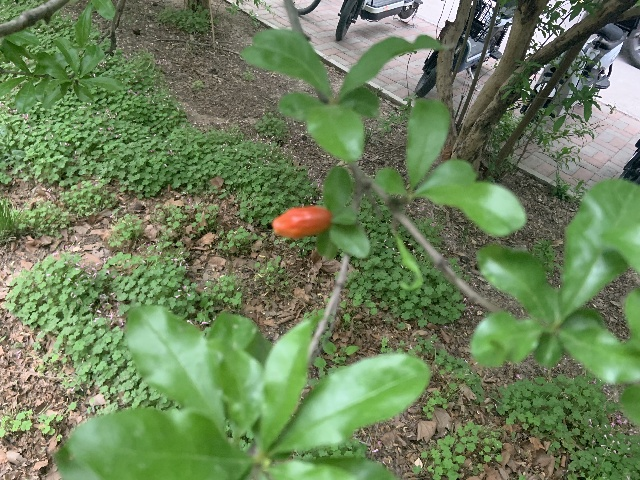bud: (272, 206, 331, 238)
